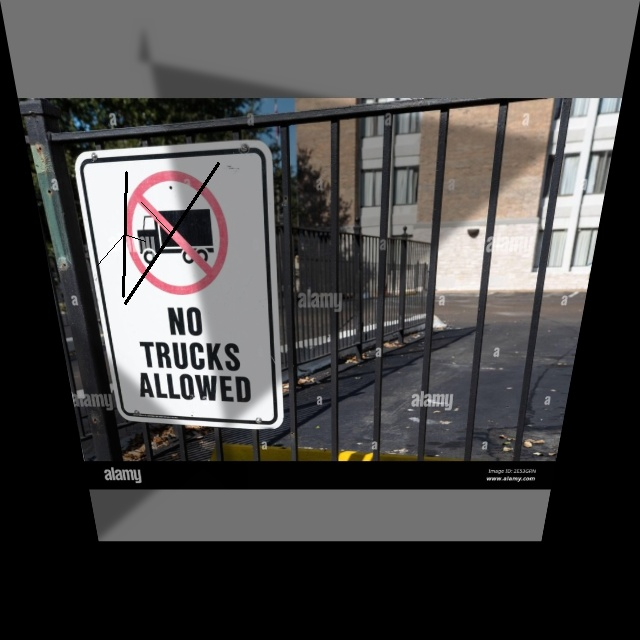Truck_Prohibited: (108, 160, 237, 304)
